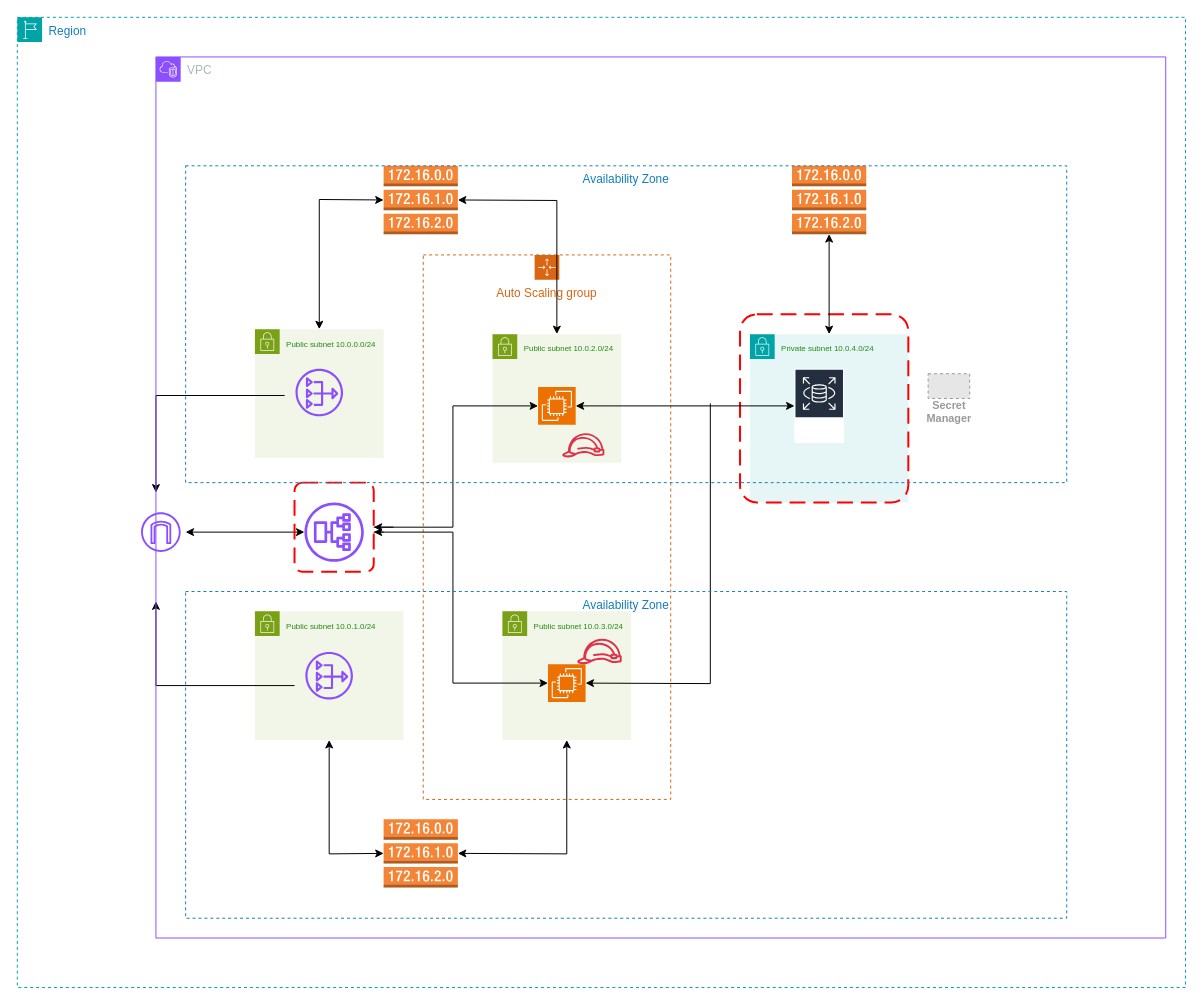
This 1203x1005 diagram has some shape labels left out. Grey dashed boxes stand in for pictures. Each missing label, with the centre of its shape:
"Amazon RDS" belongs at [818,405].
"Internet gateway" belongs at [160,531].
"Private RT AZ 1" belongs at [828,199].
"Public RT AZ 1" belongs at [420,199].
"Public RT AZ 2" belongs at [420,853].
